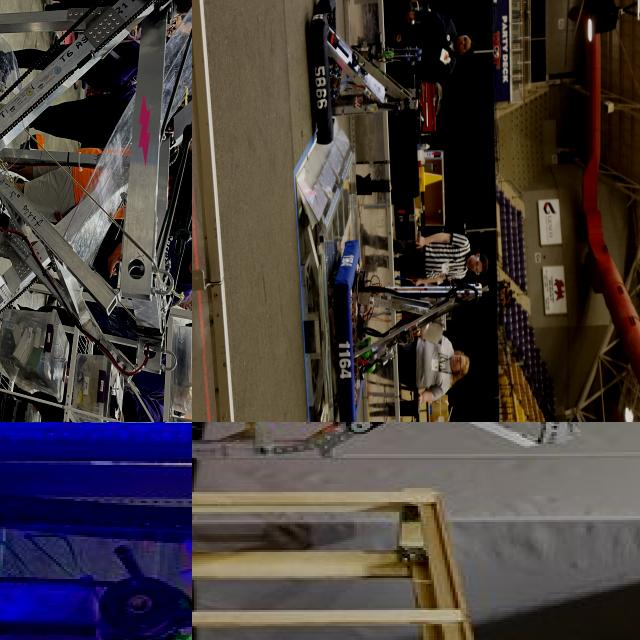FRC-Robots: (0, 0, 192, 422), (192, 422, 640, 543), (0, 422, 192, 640), (328, 226, 492, 422), (300, 0, 434, 156)
